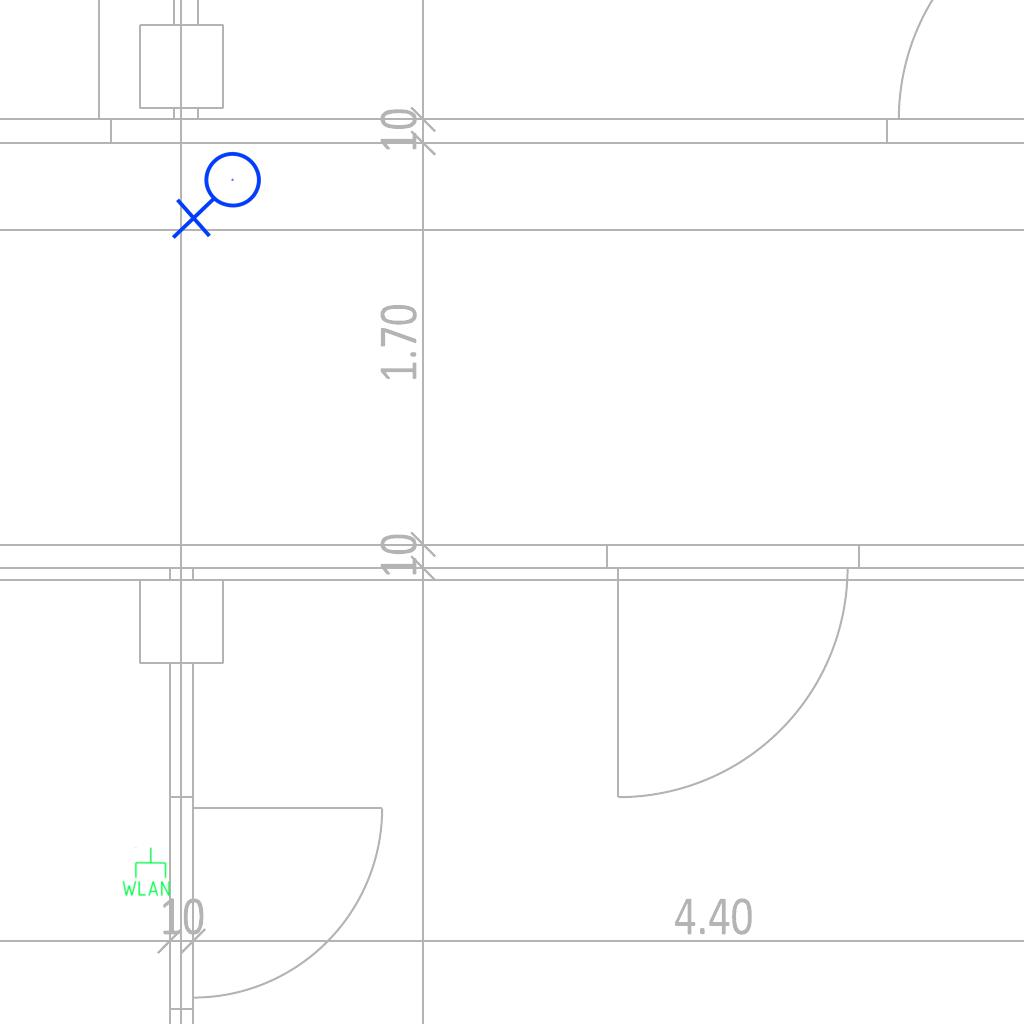Elektroanschluss_allgemein_230V_Geraeteanschlussdose_230V: (171, 150, 270, 244)
WLAN: (120, 846, 172, 898)
